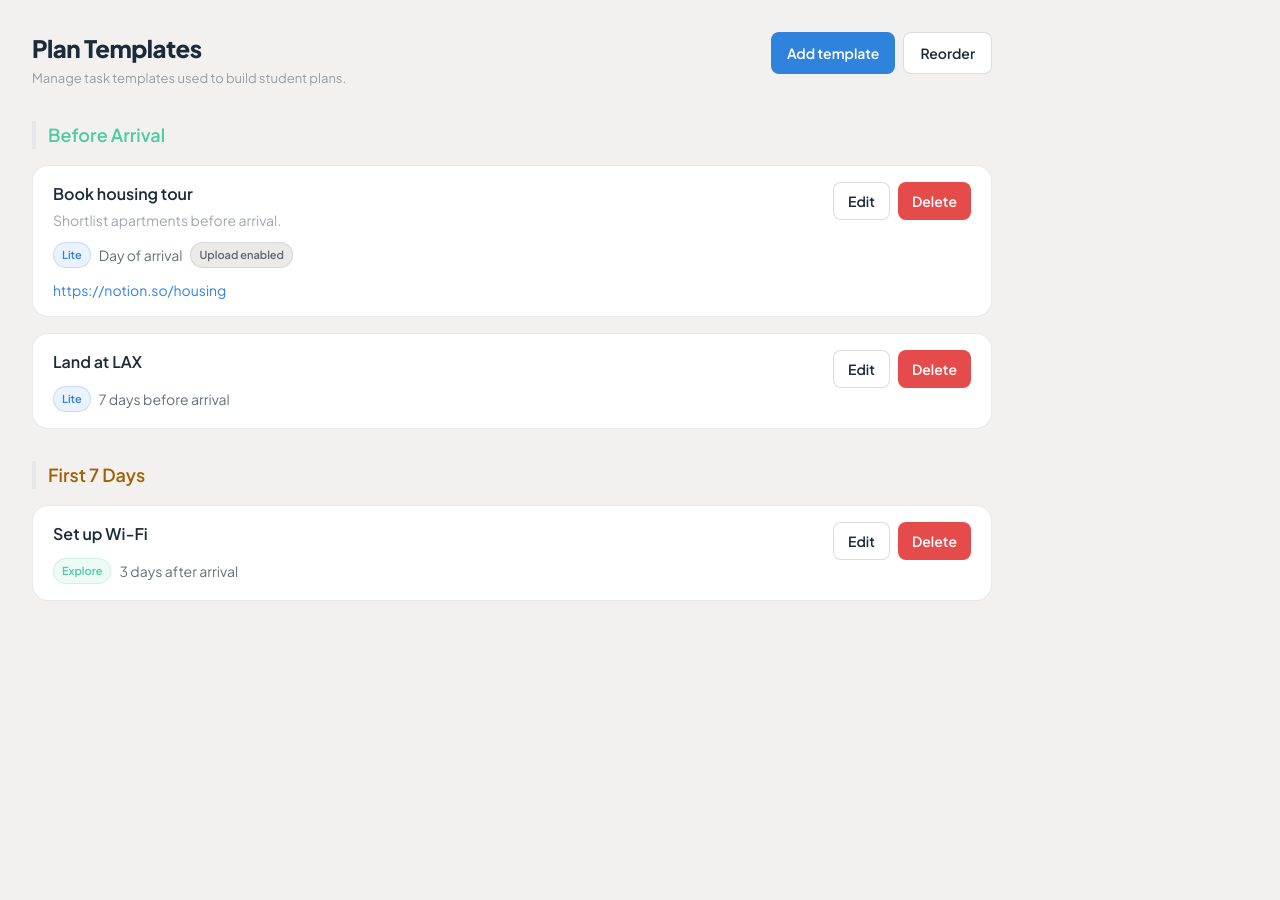
Test: PlanTemplatesClient › opens the edit modal with existing data
What coordinates should you click on to do the following:
click the 1st button "Edit"
I would click on:
 (861, 201)
Its box is [833,182,890,220].
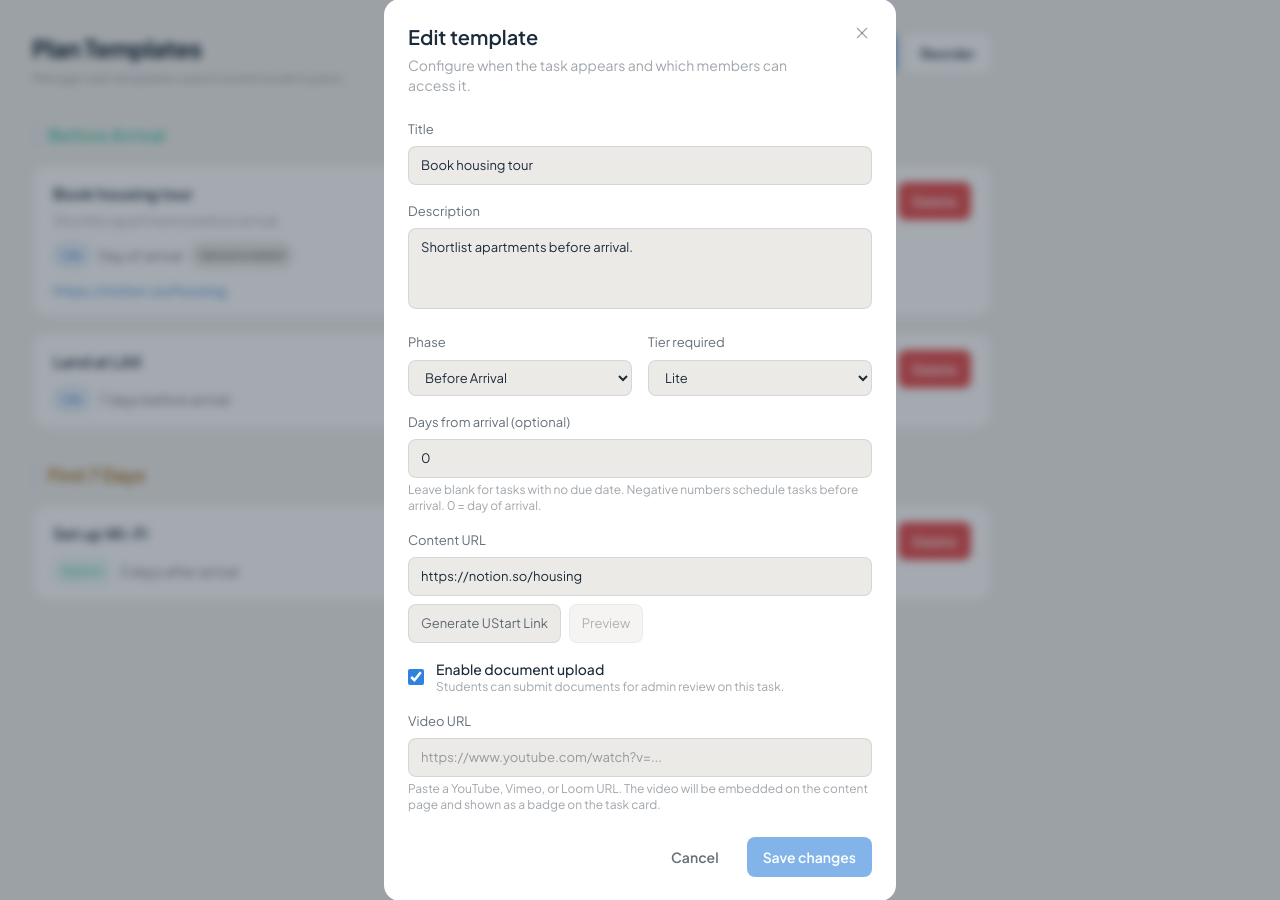
Check: the heading "Edit template" is shown, box [408,24,538,49]
Check: the field showing "Book housing tour" is shown, box [408,146,872,185]
